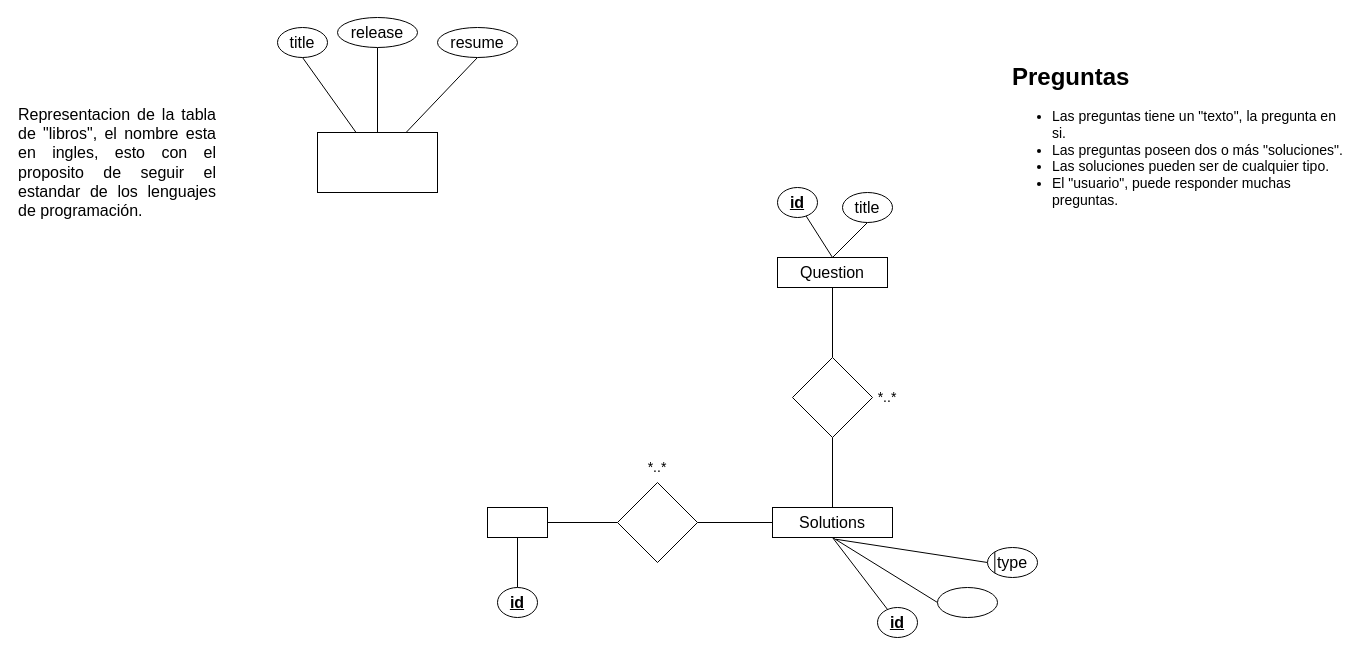
The diagram is 1364 pixels wide and 655 high, and some of its shapes have lost their labels. Here are the shapes that lost their labels. From the top down, the centre of each, then its label:
At point 377,162: "Books".
At point 832,397: "has".
At point 517,522: "User".
At point 657,522: "response".
At point 967,602: "value".
